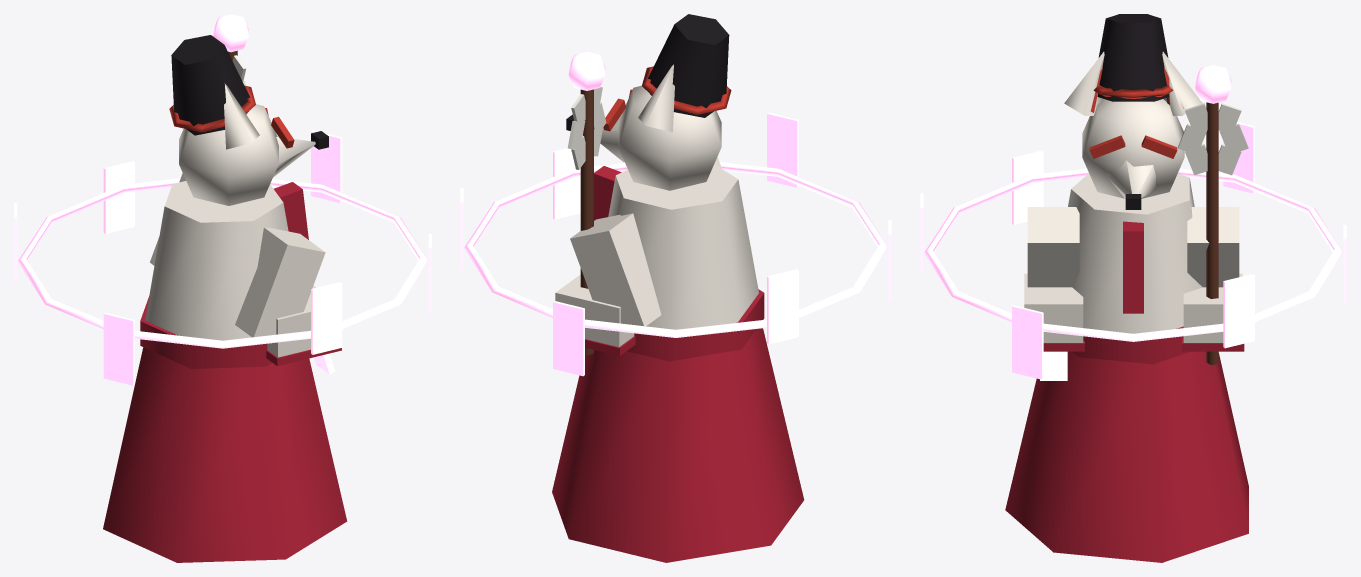
The model's file is enemy_warded.glb.
3 renders of one model, left to right at view 1: azimuth 30°, elevation 25°; view 2: azimuth 150°, elevation 25°; view 3: azimuth 270°, elevation 25°, orthographic. The views are drawn at different scales.
Visible parts, largest first — view 1: hakama, kosode, ward, ward_ring, head, arm_l_mesh, eboshi_cap, obi, sleeve_l, ear_l, collar, gohei_orb (+3 smaller); view 2: hakama, kosode, ward, head, ward_ring, arm_r_mesh, eboshi_cap, obi, sleeve_r, gohei_stick, ear_r, gohei_orb (+2 smaller); view 3: hakama, kosode, ward, ward_ring, head, eboshi_cap, arm_l_mesh, arm_r_mesh, gohei_stick, sleeve_l, obi, collar (+11 smaller).
Boxes of the visible parts, left/top/right/bottom form: hakama: left=103, top=347, right=347, bottom=562; kosode: left=145, top=181, right=288, bottom=340; ward: left=14, top=130, right=431, bottom=385; ward_ring: left=17, top=178, right=428, bottom=348; head: left=179, top=104, right=278, bottom=205; arm_l_mesh: left=235, top=227, right=325, bottom=337; eboshi_cap: left=171, top=35, right=249, bottom=135; obi: left=140, top=296, right=272, bottom=368; sleeve_l: left=267, top=285, right=315, bottom=357; ear_l: left=224, top=83, right=259, bottom=149; collar: left=274, top=182, right=308, bottom=239; gohei_orb: left=213, top=14, right=248, bottom=52; hakama: left=552, top=328, right=804, bottom=562; kosode: left=608, top=164, right=758, bottom=329; ward: left=460, top=112, right=891, bottom=376; head: left=618, top=85, right=721, bottom=190; ward_ring: left=464, top=162, right=887, bottom=337; arm_r_mesh: left=570, top=213, right=661, bottom=326; eboshi_cap: left=648, top=14, right=729, bottom=117; obi: left=627, top=289, right=764, bottom=361; sleeve_r: left=555, top=274, right=634, bottom=346; gohei_stick: left=580, top=89, right=593, bottom=355; ear_r: left=638, top=64, right=674, bottom=132; gohei_orb: left=568, top=51, right=605, bottom=90; hakama: left=1005, top=351, right=1248, bottom=562; kosode: left=1068, top=173, right=1202, bottom=333; ward: left=920, top=122, right=1346, bottom=379; ward_ring: left=924, top=168, right=1342, bottom=341; head: left=1082, top=99, right=1184, bottom=198; eboshi_cap: left=1097, top=14, right=1169, bottom=101; arm_l_mesh: left=1027, top=207, right=1079, bottom=287; arm_r_mesh: left=1187, top=207, right=1239, bottom=287; gohei_stick: left=1206, top=102, right=1218, bottom=364; sleeve_l: left=1024, top=273, right=1083, bottom=342; obi: left=1072, top=326, right=1189, bottom=364; collar: left=1123, top=221, right=1143, bottom=313.
Size of the model in its own units: 0.242 by 0.314 by 0.246.
